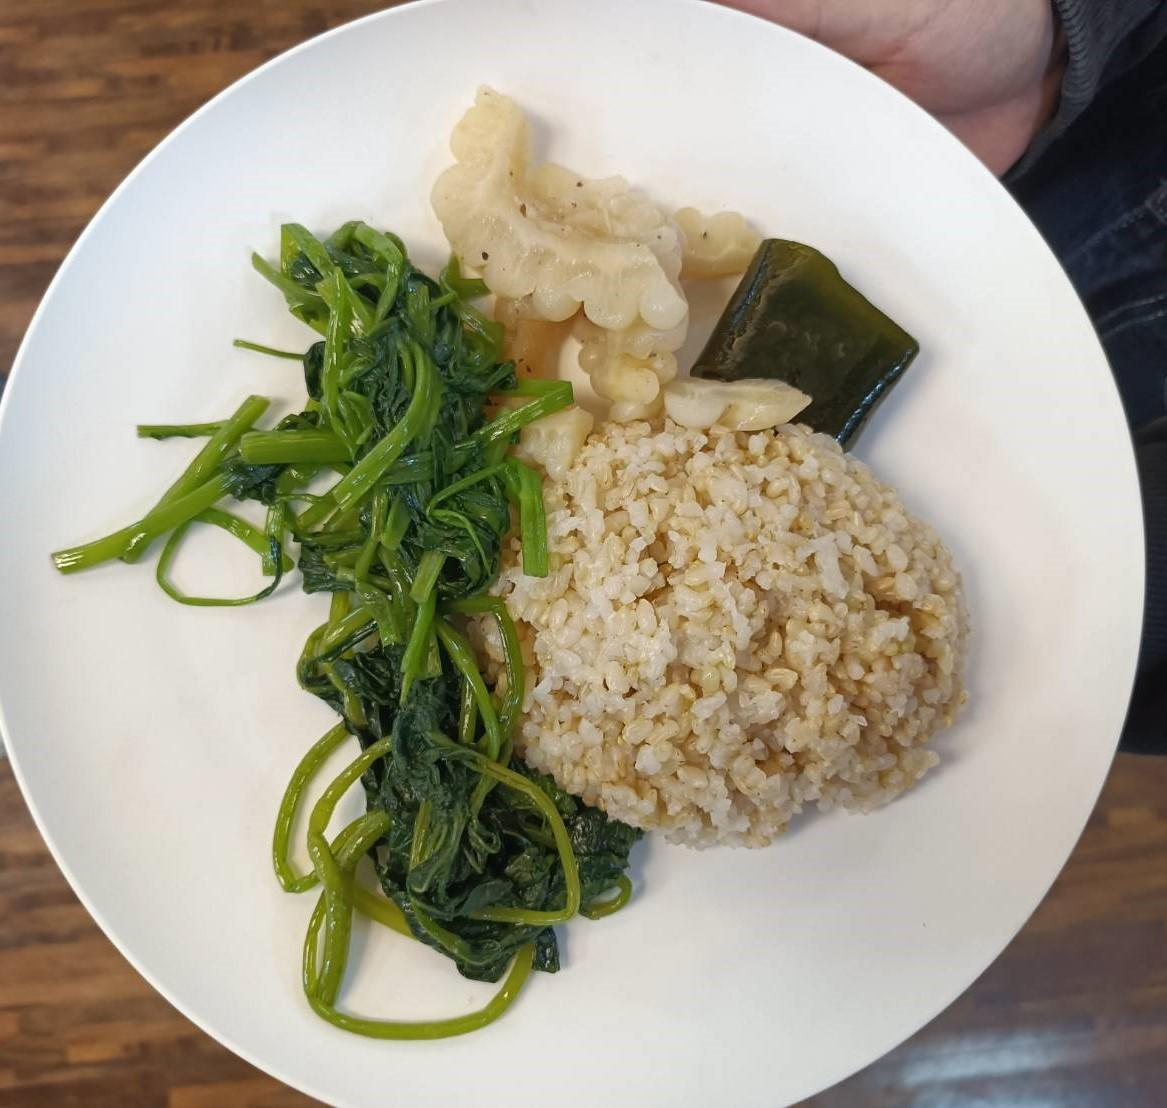big fried chicken leg: (10, 12, 1148, 1104)
box: (527, 406, 987, 833)
braised fish fillet: (460, 95, 908, 402), (146, 233, 514, 595), (286, 590, 601, 988)
